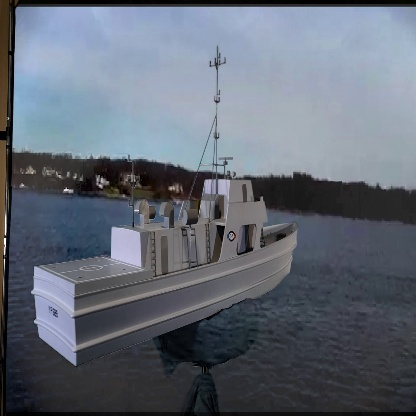YP689: (33, 51, 299, 367)
